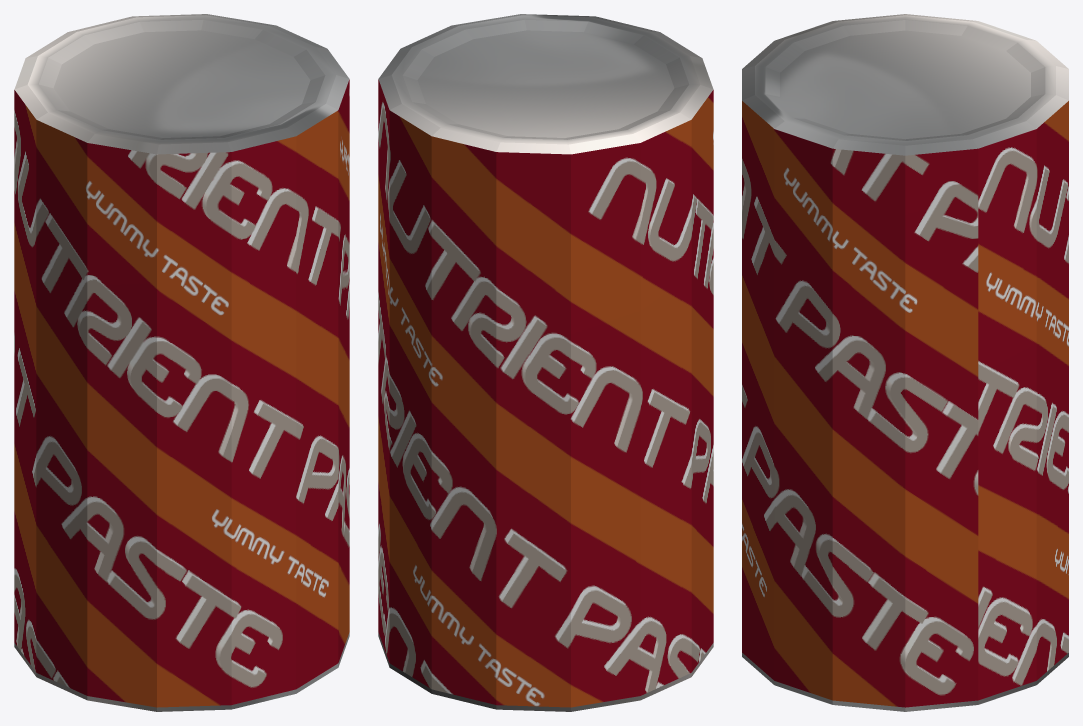
The model's file is Soup0.fbx.
The picture shows the model from 3 angles, left to right: view 1: azimuth 30°, elevation 25°; view 2: azimuth 150°, elevation 25°; view 3: azimuth 270°, elevation 25°; orthographic projection.
Visible parts, largest first — view 1: pCylinder1; view 2: pCylinder1; view 3: pCylinder1.
Part boxes in pixels (x1,y1,x2,y2): pCylinder1: (14, 14, 349, 711); pCylinder1: (378, 14, 713, 711); pCylinder1: (742, 14, 1068, 711).
Size of the model in its own units: 5.47 by 10.09 by 5.34.
